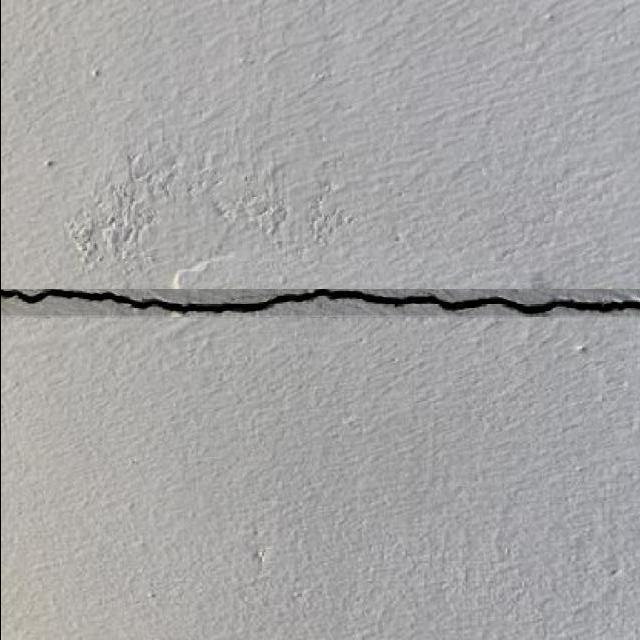crack: (10, 303, 639, 385), (0, 285, 639, 317), (4, 286, 213, 311)
